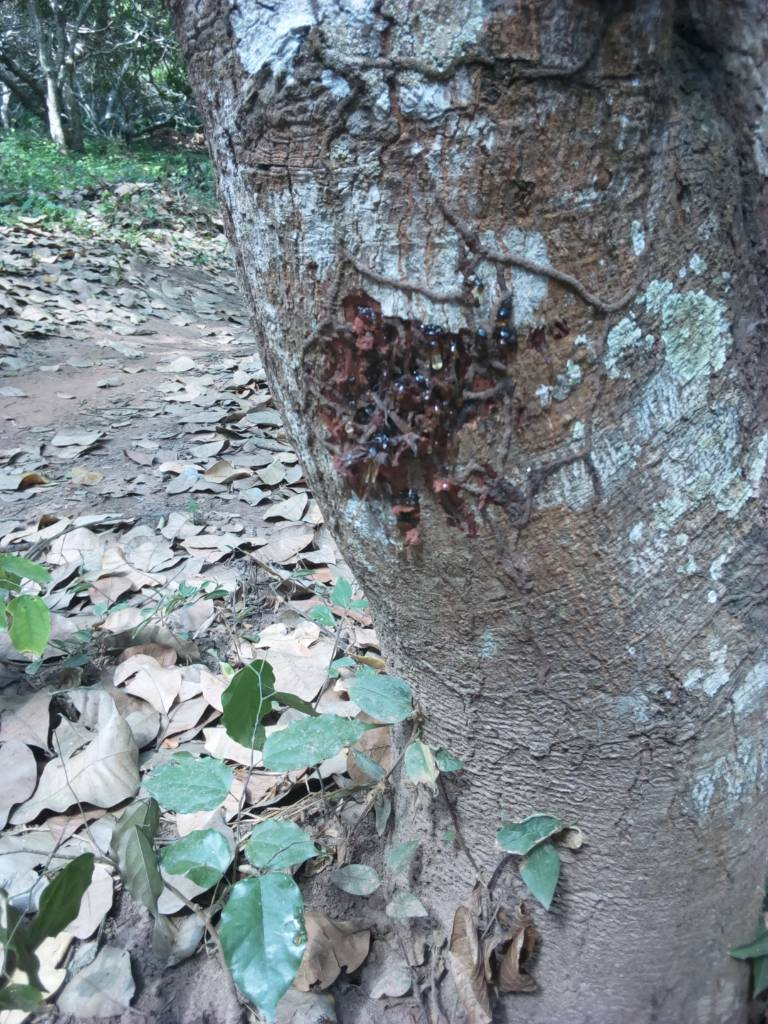ploceadorus ferrugineus: (265, 255, 565, 558)
